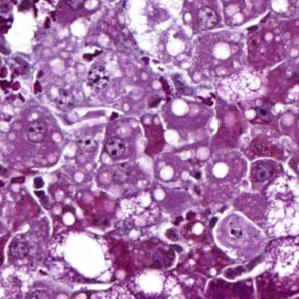ballooning: (55, 226, 115, 283), (216, 68, 263, 106)
